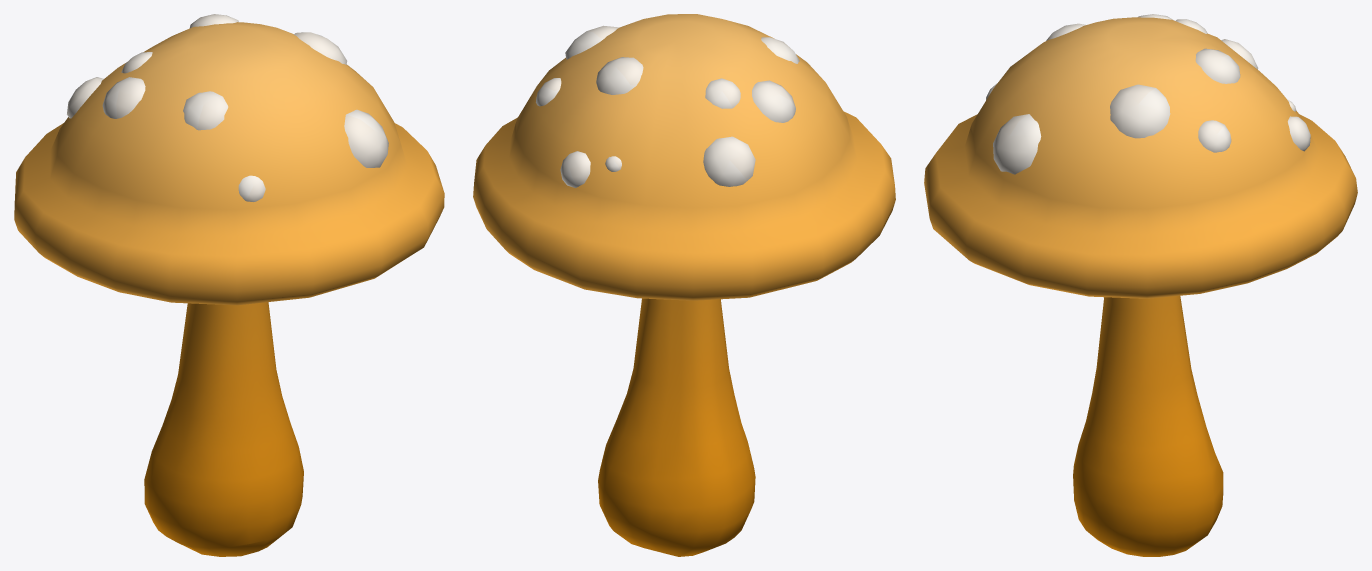
File: Mushroom_0001_0006.fbx
The picture shows the model from 3 angles, left to right: view 1: azimuth 30°, elevation 25°; view 2: azimuth 150°, elevation 25°; view 3: azimuth 270°, elevation 25°; orthographic projection.
Visible parts, largest first — view 1: Mushroom_0001_0006; view 2: Mushroom_0001_0006; view 3: Mushroom_0001_0006.
Boxes of the visible parts, left/top/right/bottom form: Mushroom_0001_0006: left=14, top=14, right=444, bottom=556; Mushroom_0001_0006: left=473, top=14, right=895, bottom=556; Mushroom_0001_0006: left=924, top=14, right=1357, bottom=556.
Bounding box in the file's own units: 0.2092 × 0.272 × 0.2118.
1 material, 1 textured.
